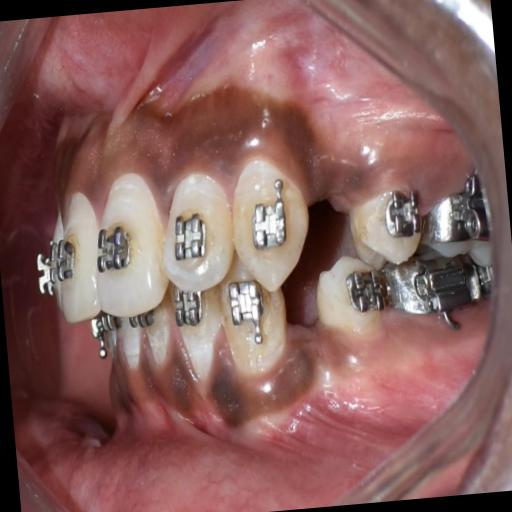correct_brace: (345, 174, 430, 272), (92, 207, 144, 285), (246, 189, 294, 257), (168, 208, 214, 266)
incorrect_brace: (157, 166, 240, 302), (381, 184, 423, 240)
